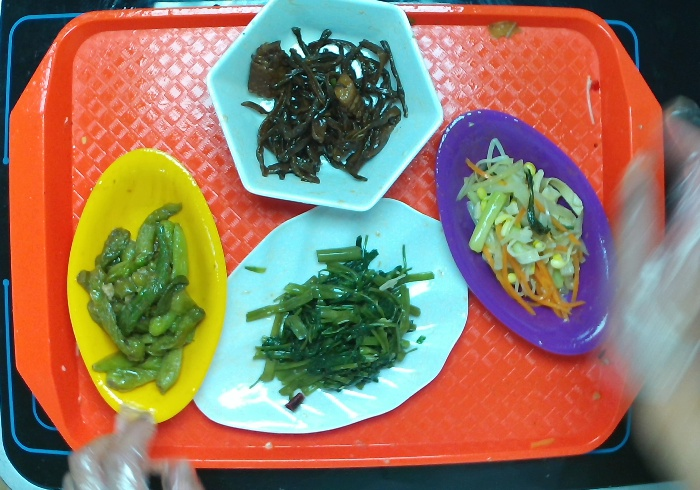RJxy-Bai_Ye_Pan: (182, 188, 475, 440)
RJxy-Fen_Hong_Tuo_Yuan: (432, 103, 621, 360)
RJxy-Huang_Se_Tuo_Yuan: (56, 130, 236, 430)
RJxy-Liu_Jiao_Wan: (199, 1, 448, 221)
